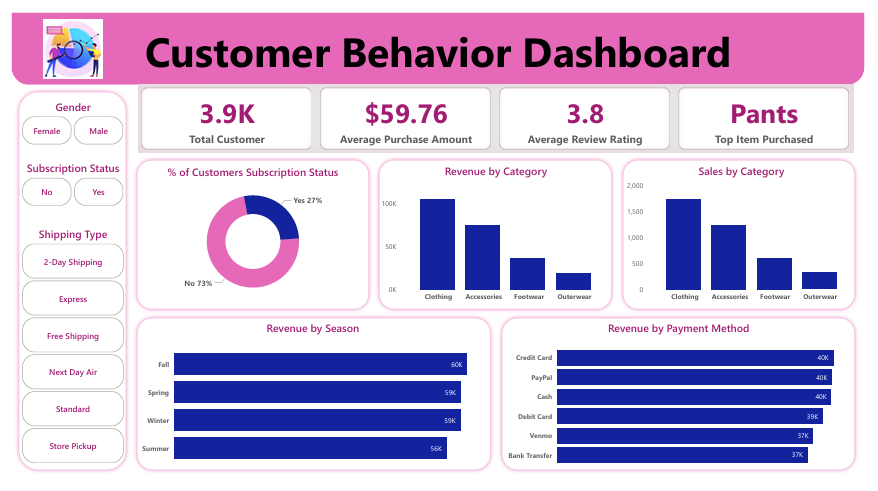

What the dashboard file says about the page in this screenshot:
{"tool":"powerbi","page":{"name":"Dashboard","canvas":[1500,820],"ordinal":0},"visuals":[{"type":"shape","box":[0,0,1500,126.9],"z":0},{"type":"textbox","box":[0,12,1500,114.9],"z":1000},{"type":"cardVisual","fields":{"Data":["important_measures.Total_customer","important_measures.Average_Purchase_Amount","important_measures.Average_Review_Rating","important_measures.Top Item Purchased"]},"box":[222.9,126.9,1258.3,120],"z":2000},{"type":"shape","box":[212.6,252,423.4,277.7],"z":3000},{"type":"shape","box":[5.1,132,204,680.6],"z":7000},{"type":"advancedSlicerVisual","title":"Gender","fields":{"Values":["customer_behaviour customer.gender"]},"box":[13.7,152.6,188.6,84],"z":8000},{"type":"advancedSlicerVisual","title":"Subscription Status","fields":{"Values":["customer_behaviour customer.subscription_status"]},"box":[13.7,260.6,188.6,84],"z":9000},{"type":"shape","box":[212.6,529.7,637,282.9],"z":10000},{"type":"shape","box":[639.4,252,423.4,277.7],"z":11000},{"type":"shape","box":[1068,252,423.4,277.7],"z":12000},{"type":"columnChart","title":"Revenue by Category","fields":{"Y":["Sum(customer_behaviour customer.purchase_amount)"],"Category":["customer_behaviour customer.category"]},"box":[644.6,265.7,414.9,252],"z":13000},{"type":"donutChart","title":"% of Customers Subscription Status","fields":{"Y":["important_measures.Total_customer"],"Category":["customer_behaviour customer.subscription_status"]},"box":[224.6,267.4,399.4,246.9],"z":13500},{"type":"columnChart","title":"Sales by Category","fields":{"Category":["customer_behaviour customer.category"],"Y":["CountNonNull(customer_behaviour customer.customer_id)"]},"box":[1076.6,265.7,414.9,252],"z":14000},{"type":"shape","box":[855.4,529.7,636,282.9],"z":14001},{"type":"clusteredBarChart","title":"Revenue by Season","fields":{"Category":["customer_behaviour customer.season"],"Y":["Sum(customer_behaviour customer.purchase_amount)"]},"box":[222.9,543.4,613.7,269.1],"z":14002},{"type":"clusteredBarChart","title":"Revenue by Payment Method","fields":{"Category":["customer_behaviour customer.payment_method"],"Y":["Sum(customer_behaviour customer.purchase_amount)"]},"box":[866.7,543.3,613.3,268.3],"z":14003},{"type":"advancedSlicerVisual","title":"Shipping Type","fields":{"Values":["customer_behaviour customer.shipping_type"]},"box":[13.7,377.1,188.6,421.7],"z":14004},{"type":"image","box":[51.4,0,113.1,126.9],"z":14005}]}

Visuals, with their boxes in screenshot pixels (x1, y1, x2, y2), scaled from the page's 1500x820 canvas onto the 878x491 screenshot:
shape: rect(0, 0, 877, 76)
textbox: rect(0, 7, 877, 76)
cardVisual - important_measures.Total_customer x important_measures.Average_Purchase_Amount: rect(130, 76, 867, 148)
shape: rect(124, 151, 372, 317)
shape: rect(3, 79, 122, 487)
"Gender" advancedSlicerVisual: rect(8, 91, 118, 142)
"Subscription Status" advancedSlicerVisual: rect(8, 156, 118, 206)
shape: rect(124, 317, 497, 487)
shape: rect(374, 151, 622, 317)
shape: rect(625, 151, 873, 317)
"Revenue by Category" columnChart: rect(377, 159, 620, 310)
"% of Customers Subscription Status" donutChart: rect(131, 160, 365, 308)
"Sales by Category" columnChart: rect(630, 159, 873, 310)
shape: rect(501, 317, 873, 487)
"Revenue by Season" clusteredBarChart: rect(130, 325, 490, 487)
"Revenue by Payment Method" clusteredBarChart: rect(507, 325, 866, 486)
"Shipping Type" advancedSlicerVisual: rect(8, 226, 118, 478)
image: rect(30, 0, 96, 76)
